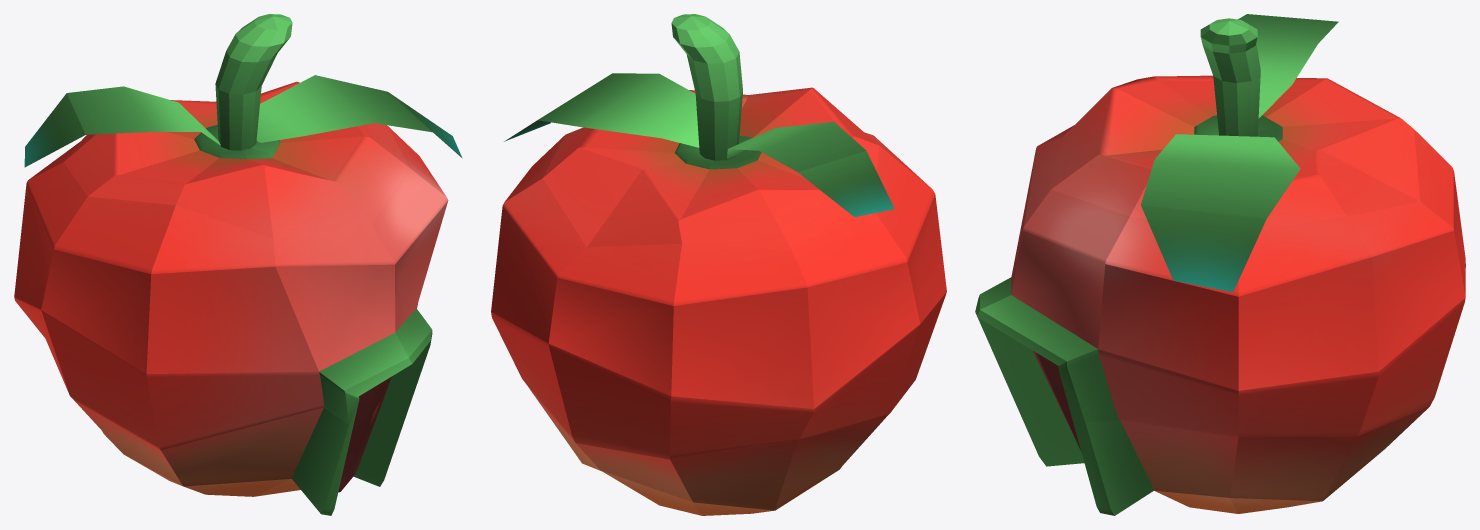
The model's file is Pomme.fbx.
The picture shows the model from 3 angles, left to right: view 1: azimuth 30°, elevation 25°; view 2: azimuth 150°, elevation 25°; view 3: azimuth 270°, elevation 25°; orthographic projection. The views are drawn at different scales.
Visible parts, largest first — view 1: polySurface34; view 2: polySurface34; view 3: polySurface34.
Boxes of the visible parts, x1,y1,x2,y2 form: polySurface34: (14,14,462,515); polySurface34: (491,14,946,515); polySurface34: (975,14,1465,515).
Size of the model in its own units: 3.8 by 3.94 by 3.69.
